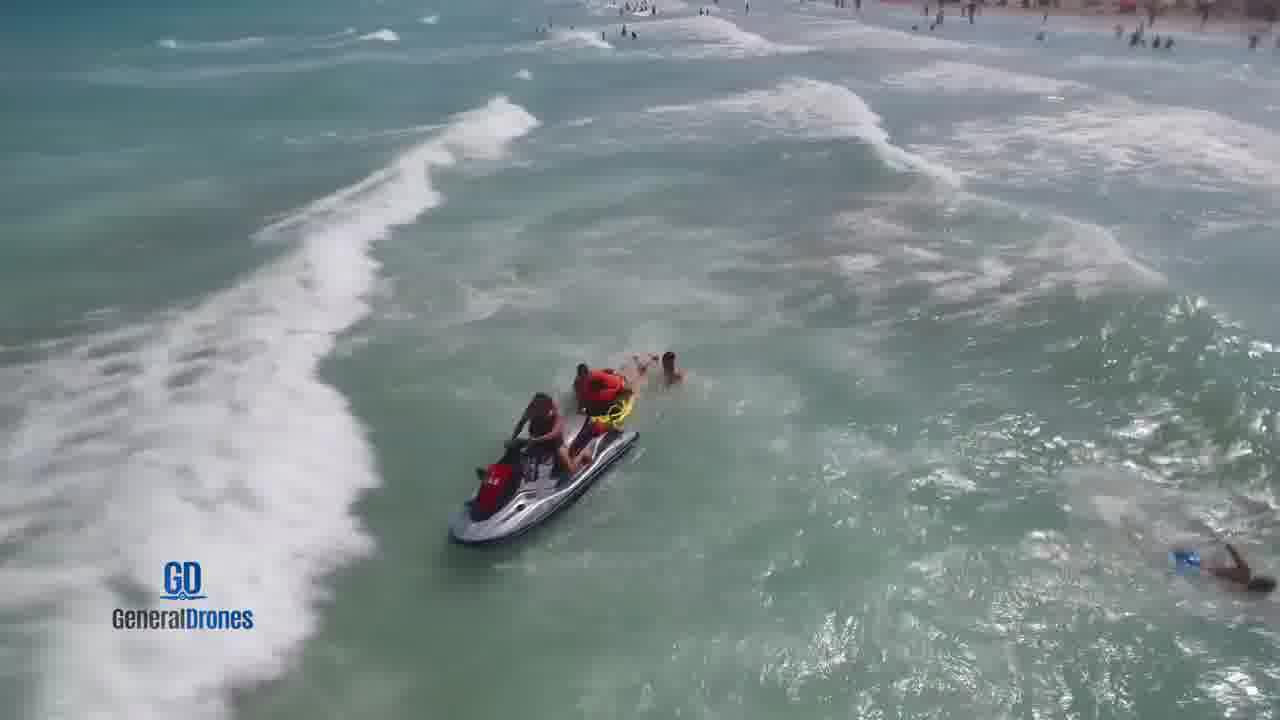human: (1198, 526, 1277, 612), (564, 367, 639, 416), (647, 338, 702, 389)
